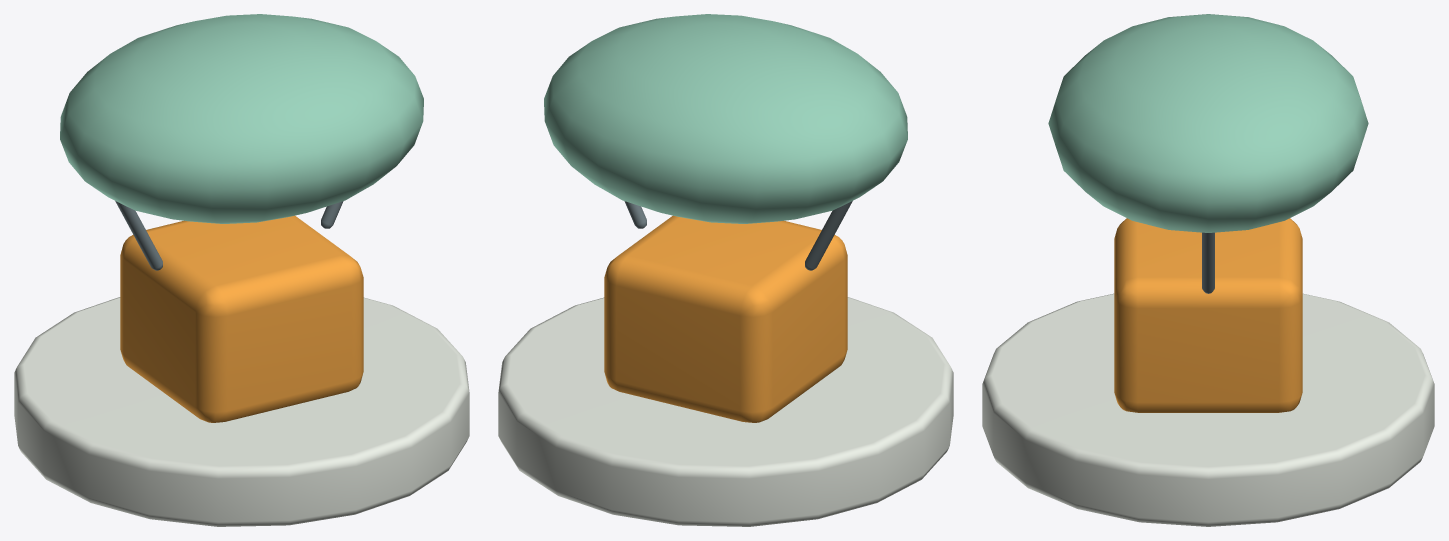
File: bonus_vehicle.glb
3 views of the same model, side by side, from view 1: azimuth 30°, elevation 25°; view 2: azimuth 150°, elevation 25°; view 3: azimuth 270°, elevation 25° (orthographic).
Parts seen in each view (by area): view 1: Bonus_rounded_plinth005, Parachute_canopy, Airdrop_crate, Parachute_line; view 2: Bonus_rounded_plinth005, Parachute_canopy, Airdrop_crate, Parachute_line; view 3: Bonus_rounded_plinth005, Parachute_canopy, Airdrop_crate, Parachute_line001.
Part boxes in pixels (<box>): Bonus_rounded_plinth005: <box>14,297,469,526</box>; Parachute_canopy: <box>60,14,423,223</box>; Airdrop_crate: <box>120,215,363,422</box>; Parachute_line: <box>115,201,162,270</box>; Bonus_rounded_plinth005: <box>498,297,953,526</box>; Parachute_canopy: <box>544,14,907,223</box>; Airdrop_crate: <box>604,215,847,422</box>; Parachute_line: <box>805,201,852,270</box>; Bonus_rounded_plinth005: <box>982,293,1434,526</box>; Parachute_canopy: <box>1048,14,1368,232</box>; Airdrop_crate: <box>1114,218,1302,412</box>; Parachute_line001: <box>1202,232,1214,293</box>.
Size of the model in its own units: 0.96 by 0.91 by 0.96.
